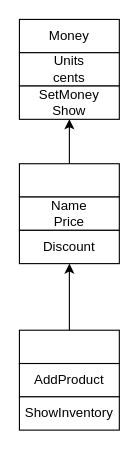
The diagram is 139 pixels wide and 450 high, and some of its shapes have lost their labels. Each missing label, with the centre of its shape:
Product: the point at 68,180
Warehouse: the point at 68,346
